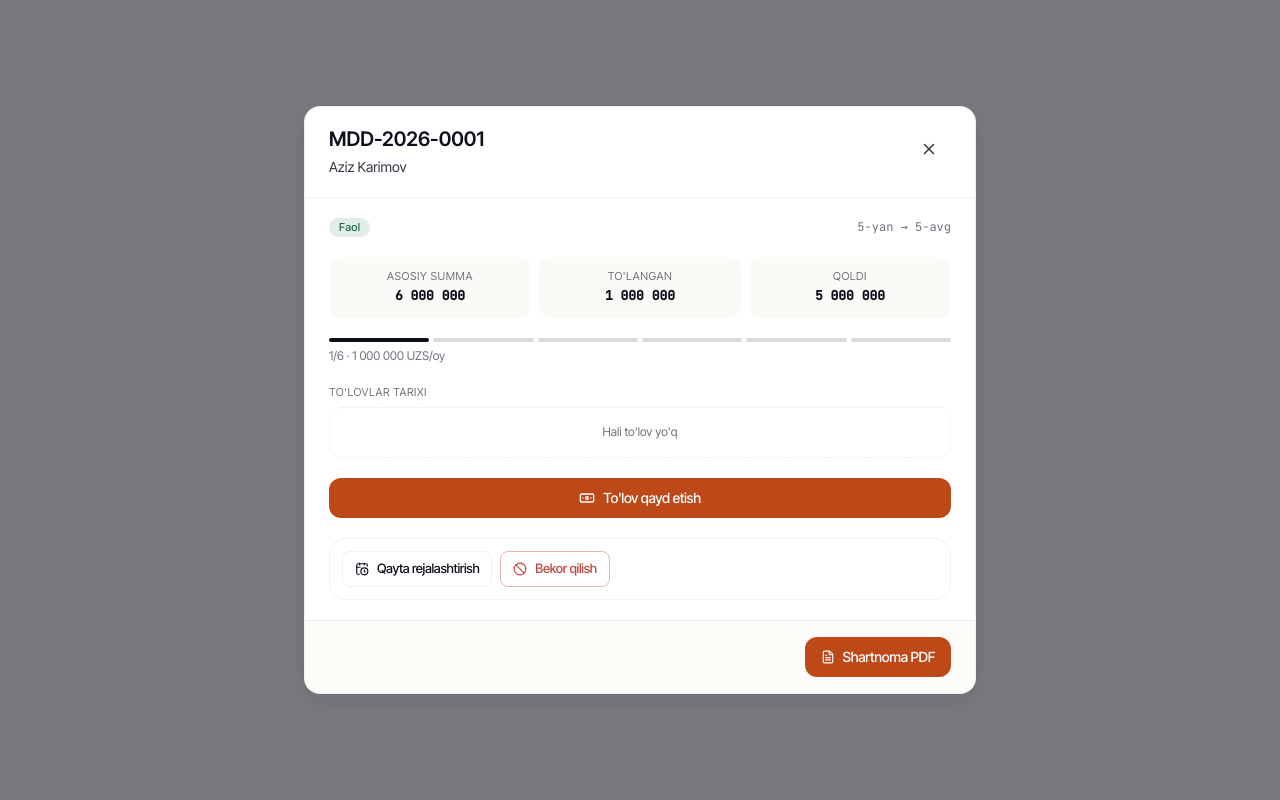
Test: reschedule form — validation is disabled, not busy › shows exactly one spinner while the mutation is actually pending
This screenshot has width=1280, height=800.
What coordinates should you click on to do the following:
click the button "Qayta rejalashtirish"
I would click on:
 (417, 569)
Its box is [342,551,492,587].
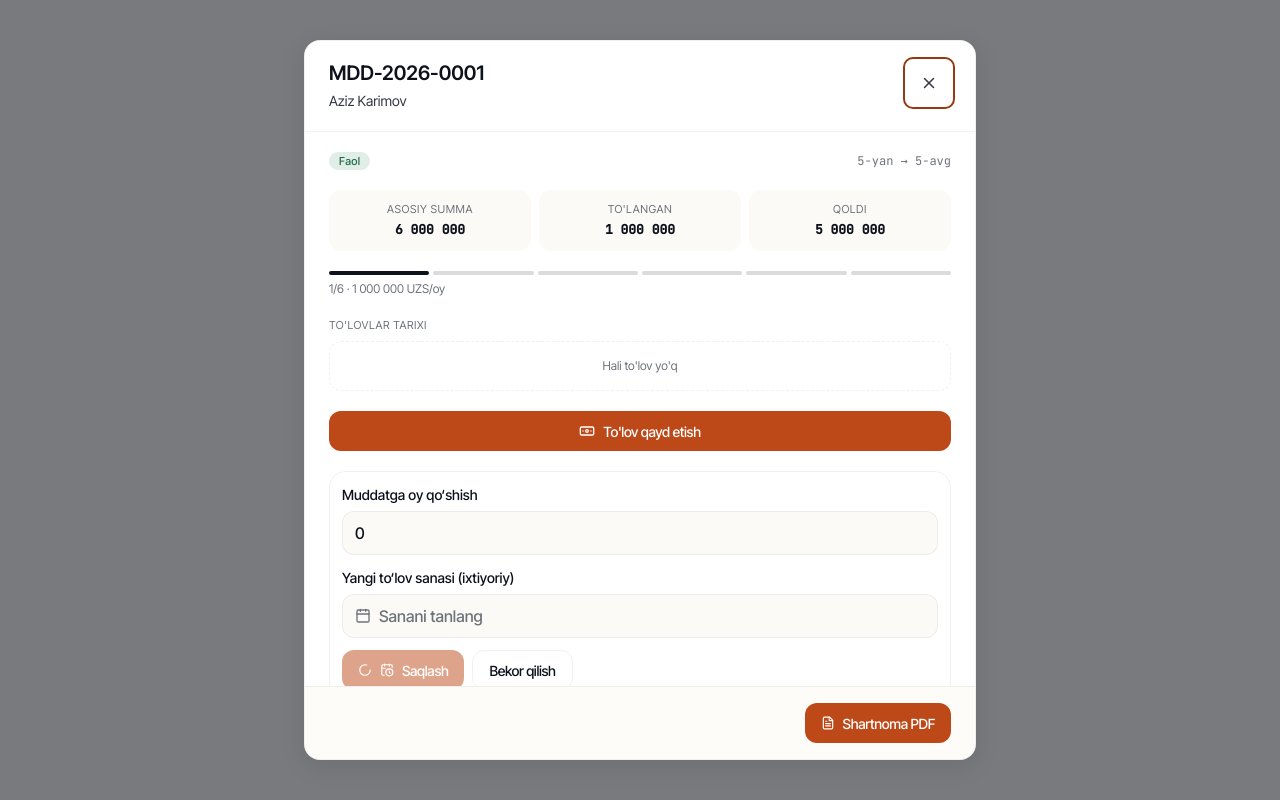
expect the number of icons with class "animate-spin" is 1: met, box [358,663,372,677]
